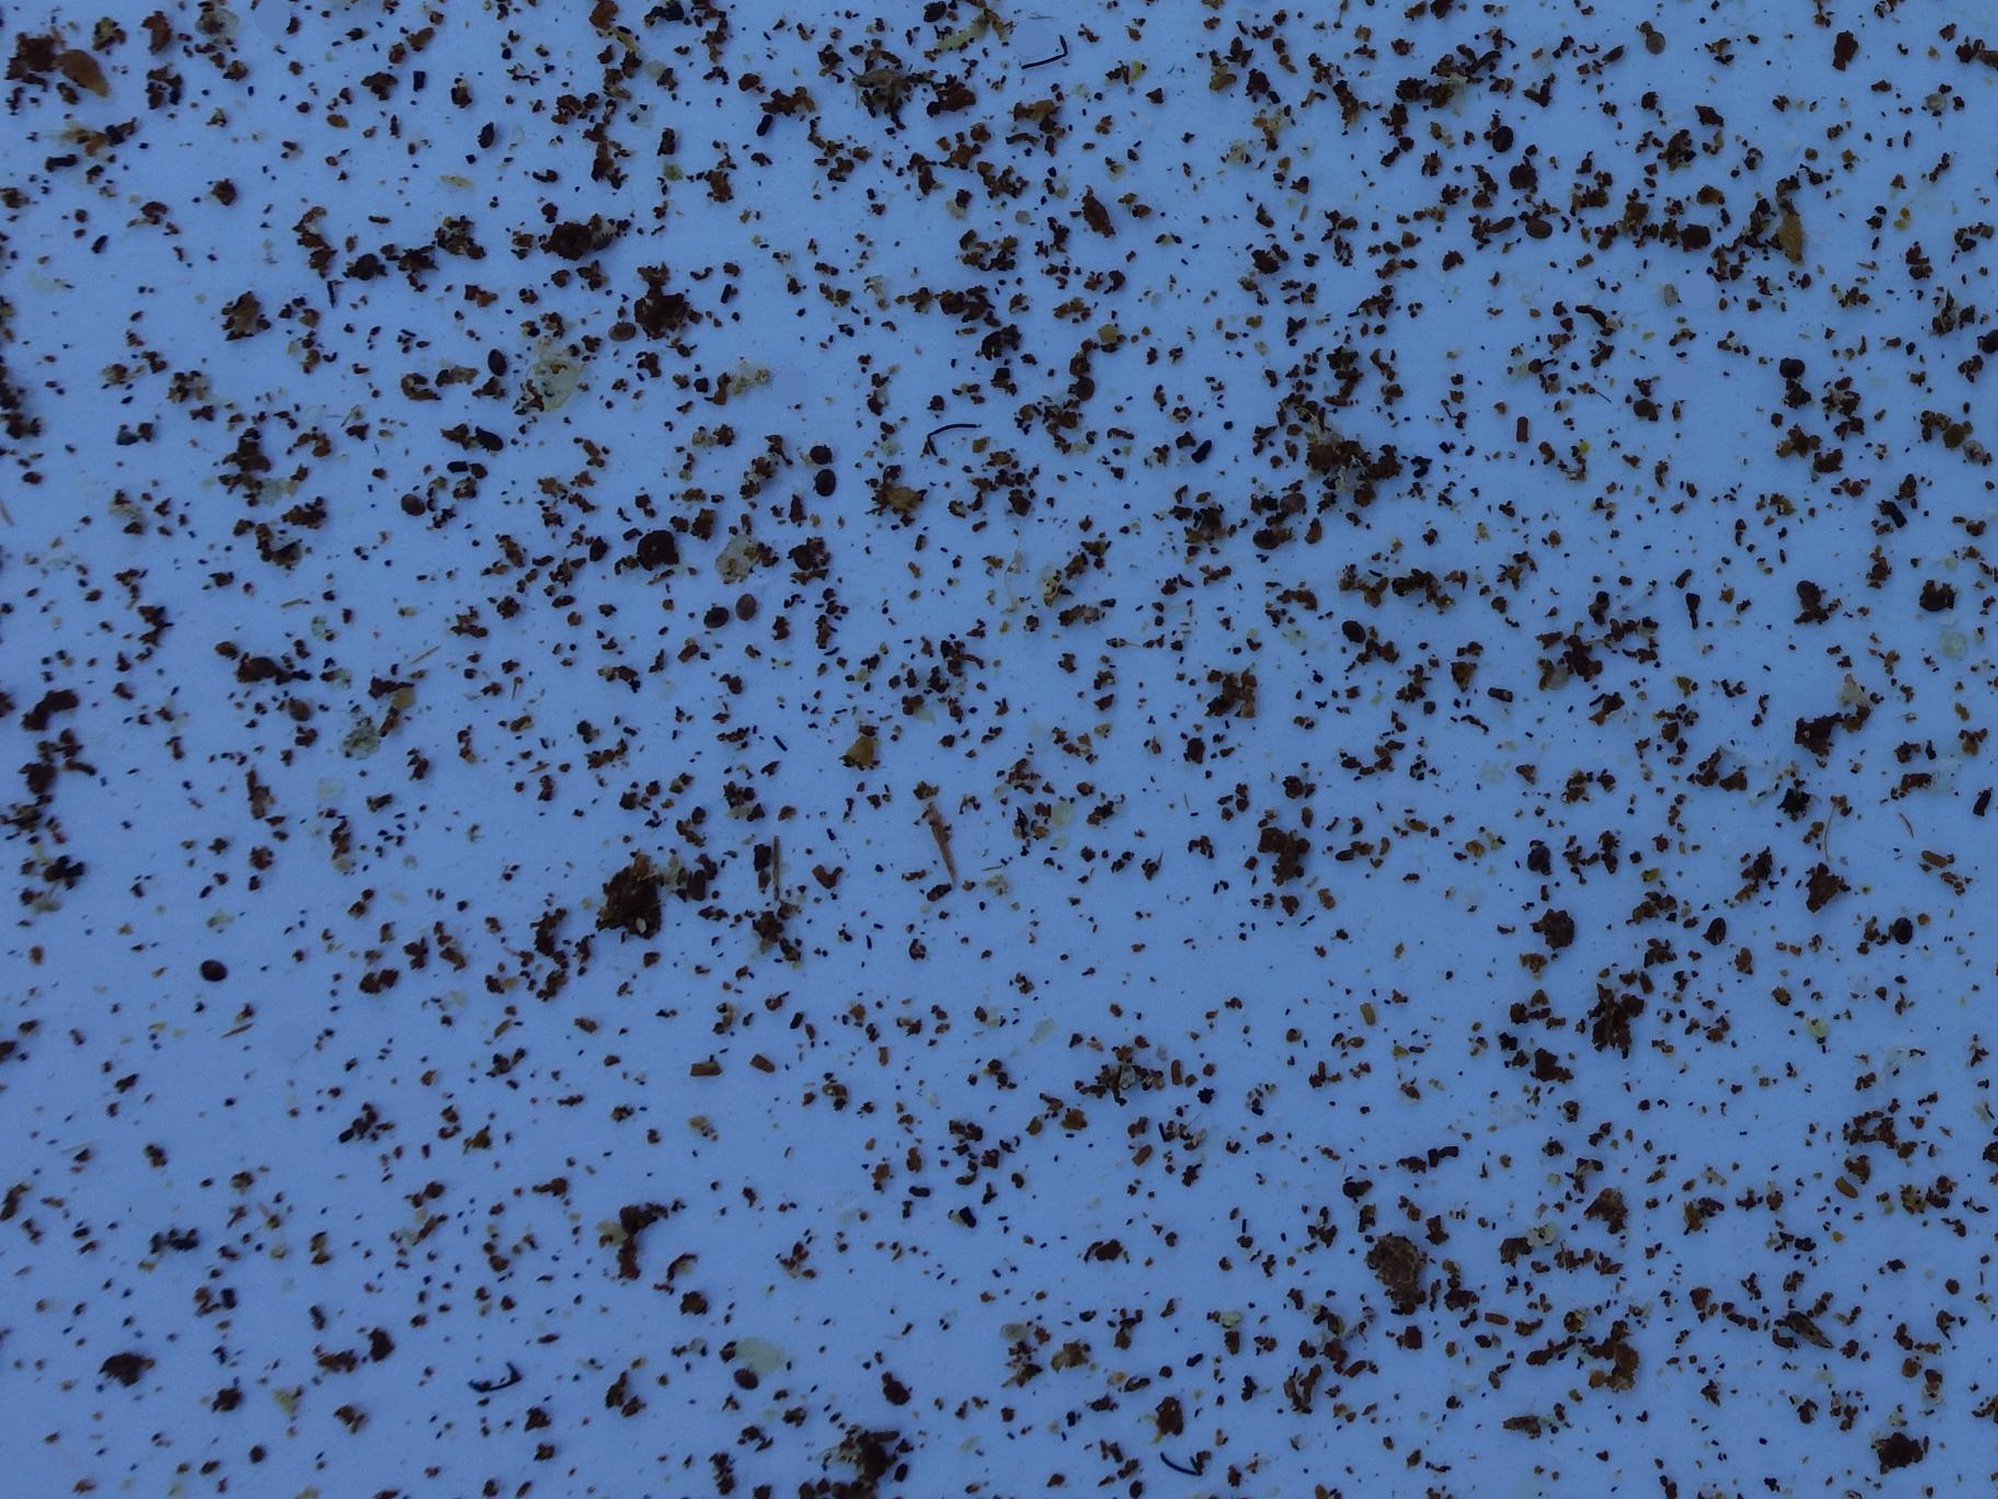Varroa: (466, 113, 507, 154), (1244, 518, 1285, 559), (1911, 583, 1952, 624), (581, 219, 622, 258), (469, 419, 509, 460), (1063, 368, 1104, 408), (1272, 480, 1312, 520), (1787, 572, 1826, 611), (1485, 128, 1518, 165), (194, 954, 227, 989), (1700, 913, 1733, 948), (403, 487, 438, 518), (724, 583, 756, 617), (485, 356, 516, 389), (1345, 622, 1378, 653), (603, 316, 633, 350), (1523, 206, 1552, 238), (1781, 353, 1811, 384), (812, 441, 842, 472), (731, 1367, 760, 1397), (350, 254, 379, 283), (1886, 913, 1915, 945), (809, 466, 838, 496), (699, 597, 727, 627), (794, 540, 823, 568), (1527, 844, 1554, 872), (735, 606, 760, 630)
